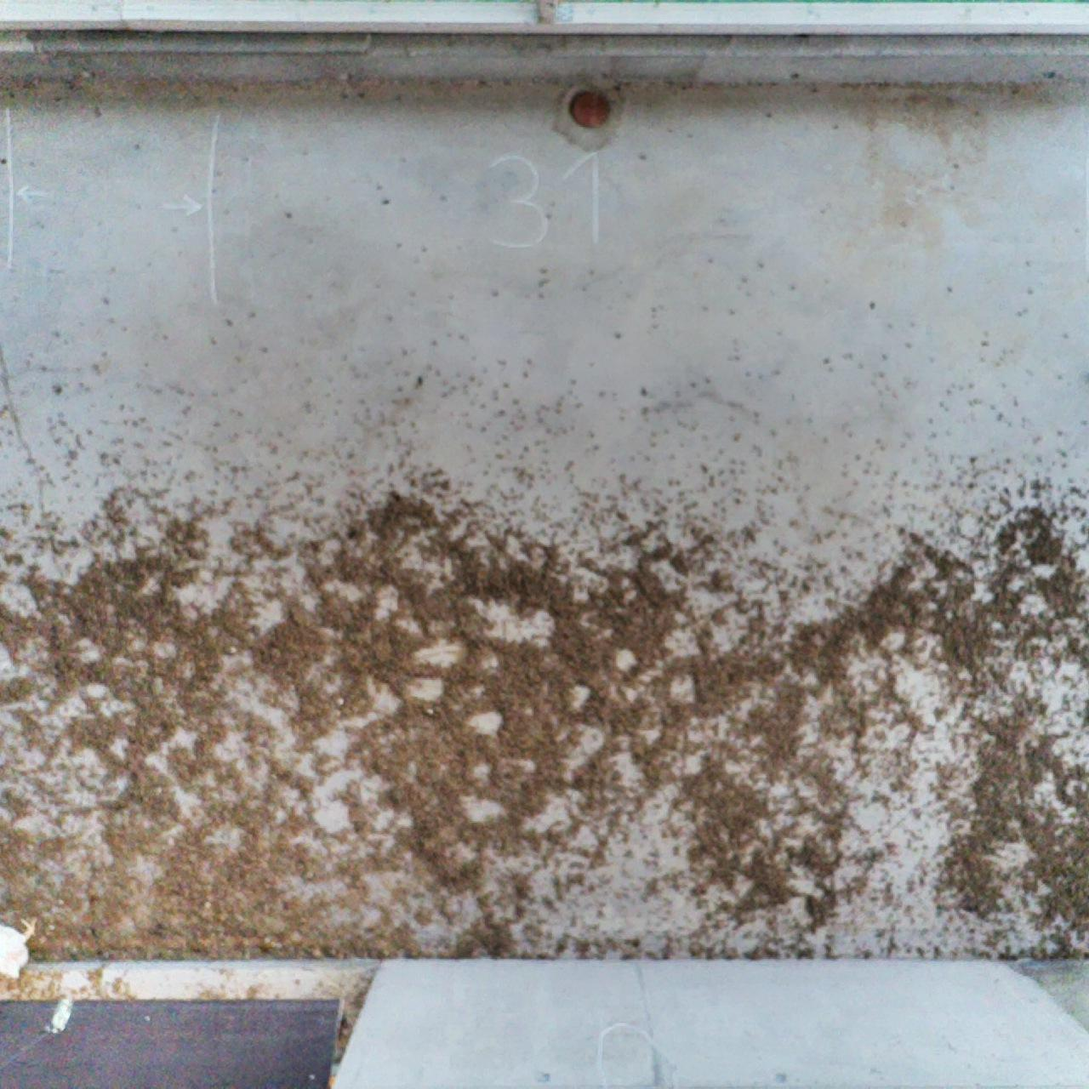chicken: (0, 908, 45, 978)
